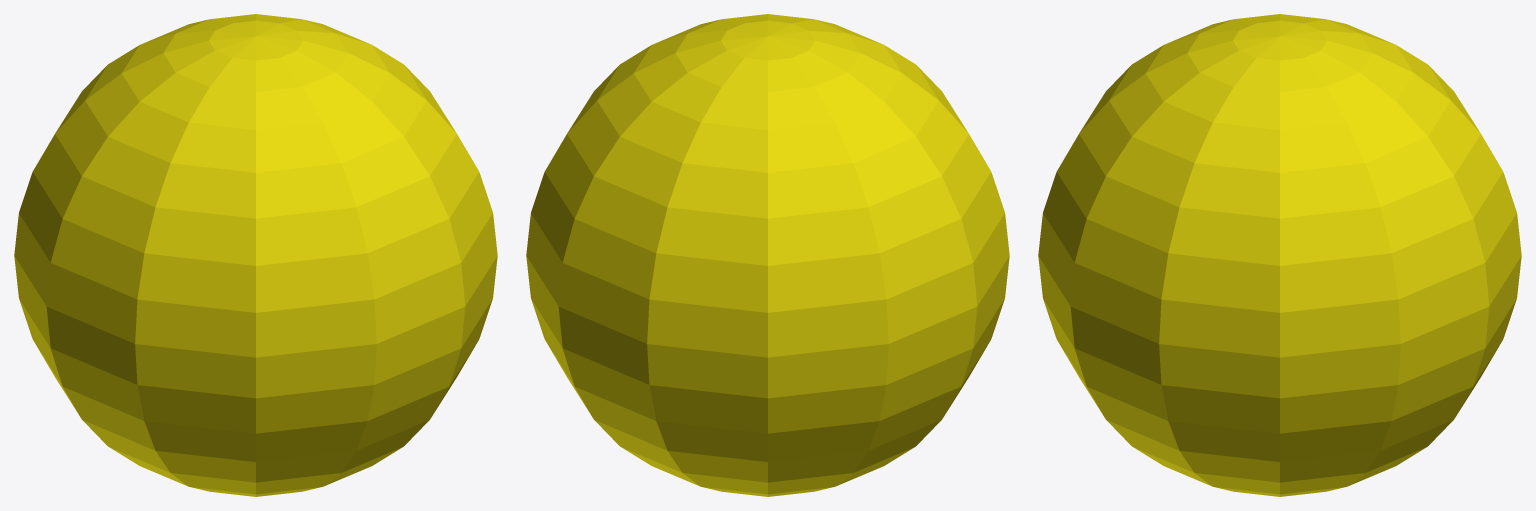
The model's file is PoolBall.fbx.
3 views of the same model, side by side, from view 1: azimuth 30°, elevation 25°; view 2: azimuth 150°, elevation 25°; view 3: azimuth 270°, elevation 25° (orthographic).
Visible parts, largest first — view 1: Snooker ball; view 2: Snooker ball; view 3: Snooker ball.
Boxes of the visible parts, x1,y1,x2,y2 form: Snooker ball: (14, 14, 497, 496); Snooker ball: (526, 14, 1009, 496); Snooker ball: (1038, 14, 1521, 496).
Size of the model in its own units: 26.93 by 26.93 by 26.93.
